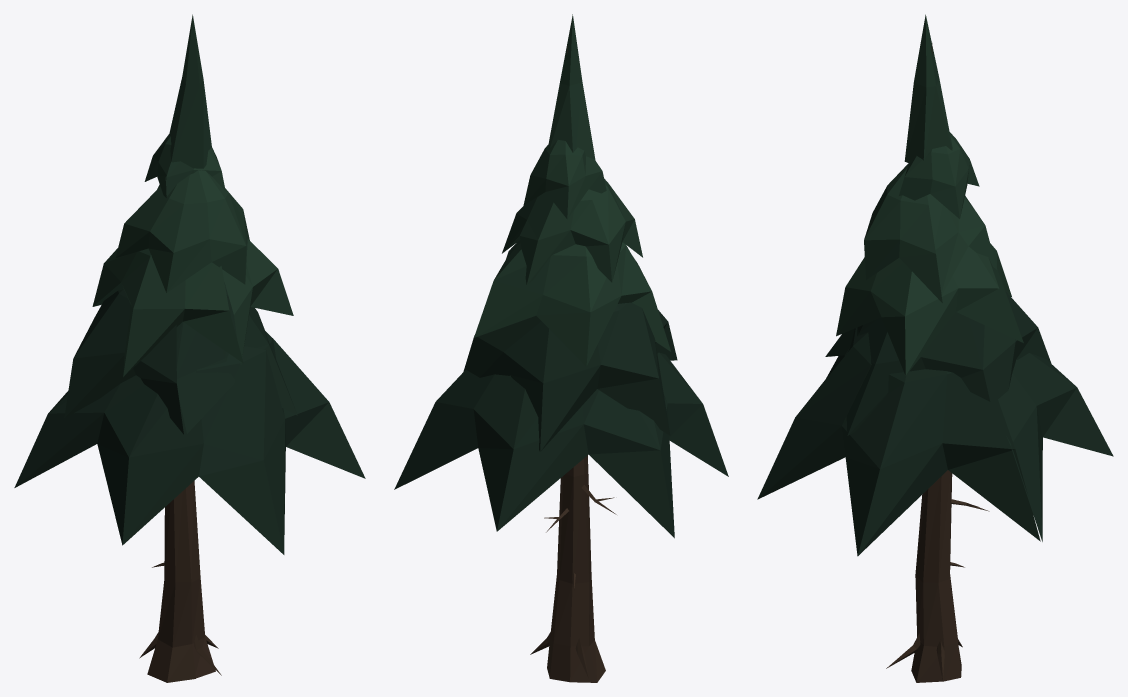
The model's file is pine_tree_b.glb.
3 views of the same model, side by side, from view 1: azimuth 30°, elevation 25°; view 2: azimuth 150°, elevation 25°; view 3: azimuth 270°, elevation 25° (orthographic).
Parts seen in each view (by area): view 1: foliage_dark, foliage_pine, trunk; view 2: foliage_dark, foliage_pine, trunk; view 3: foliage_dark, foliage_pine, trunk.
Boxes of the visible parts, x1,y1,x2,y2 form: foliage_dark: (14, 282, 365, 554); foliage_pine: (92, 14, 293, 376); trunk: (139, 481, 221, 682); foliage_dark: (394, 302, 728, 538); foliage_pine: (474, 14, 670, 366); trunk: (530, 45, 616, 682); foliage_dark: (757, 291, 1113, 556); foliage_pine: (836, 14, 1023, 375); trunk: (886, 43, 989, 682).
Size of the model in its own units: 4.16 by 9.37 by 4.58.
